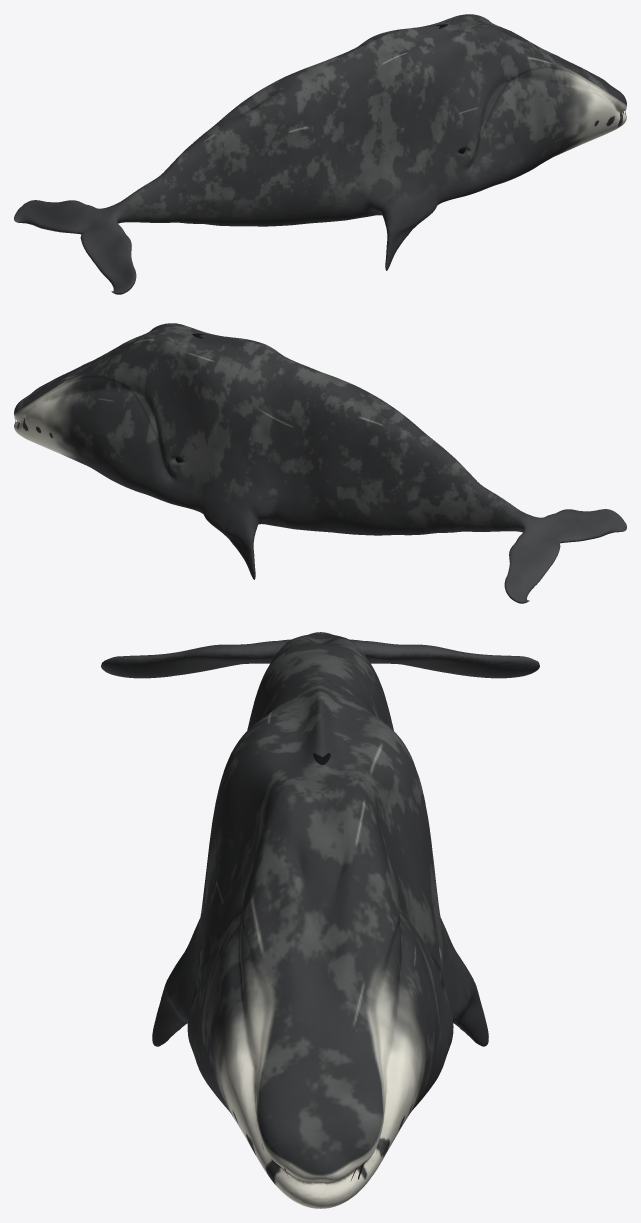
Rendered from model-bowhead-v0665.glb.
3 renders of one model, top to bottom at view 1: azimuth 30°, elevation 25°; view 2: azimuth 150°, elevation 25°; view 3: azimuth 270°, elevation 25°, orthographic. The views are drawn at different scales.
Visible parts, largest first — view 1: Bowhead_body, Bowhead_lower_jaw; view 2: Bowhead_body, Bowhead_lower_jaw; view 3: Bowhead_body, Bowhead_lower_jaw.
Part boxes in pixels (left/top/right/bottom): Bowhead_body: left=14, top=14, right=626, bottom=294; Bowhead_lower_jaw: left=464, top=67, right=626, bottom=196; Bowhead_body: left=14, top=323, right=626, bottom=603; Bowhead_lower_jaw: left=14, top=376, right=176, bottom=505; Bowhead_body: left=101, top=632, right=539, bottom=1176; Bowhead_lower_jaw: left=187, top=912, right=453, bottom=1208.
Size of the model in its own units: 3.75 by 1.26 by 1.27.
Materials: 8 (2 with a texture image).
